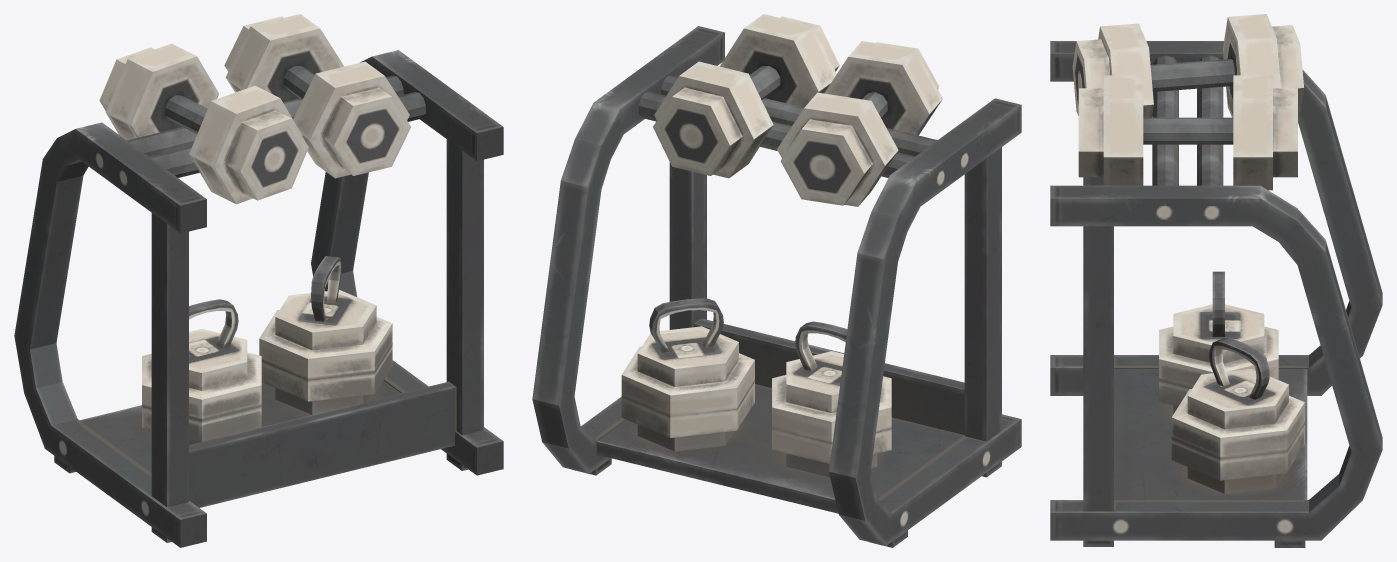
File: P_Equipment_001_S1_M01.obj
3 renders of one model, left to right at view 1: azimuth 30°, elevation 25°; view 2: azimuth 150°, elevation 25°; view 3: azimuth 270°, elevation 25°, orthographic.
Size of the model in its own units: 0.85 by 1.02 by 0.7566.
Materials: 1 (1 with a texture image).
